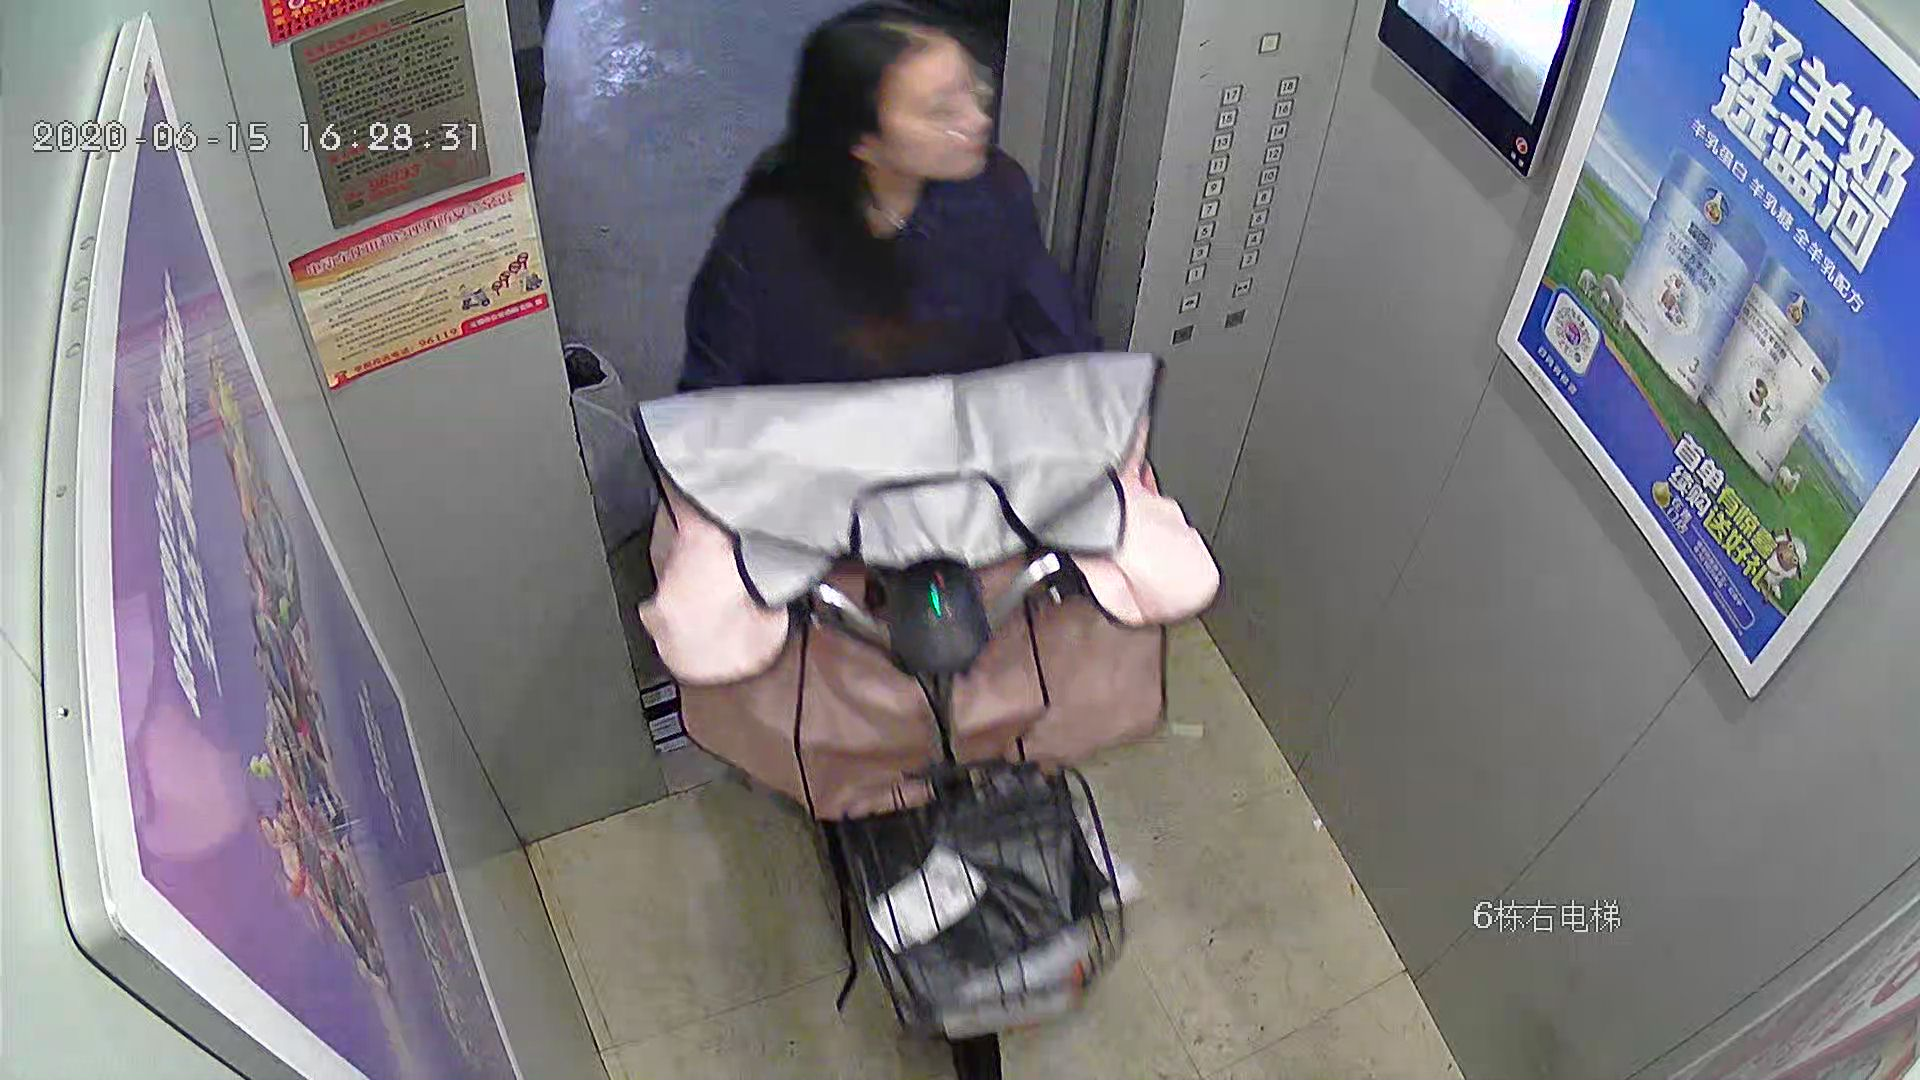Electric-bicycle: (705, 502, 1175, 1080)
